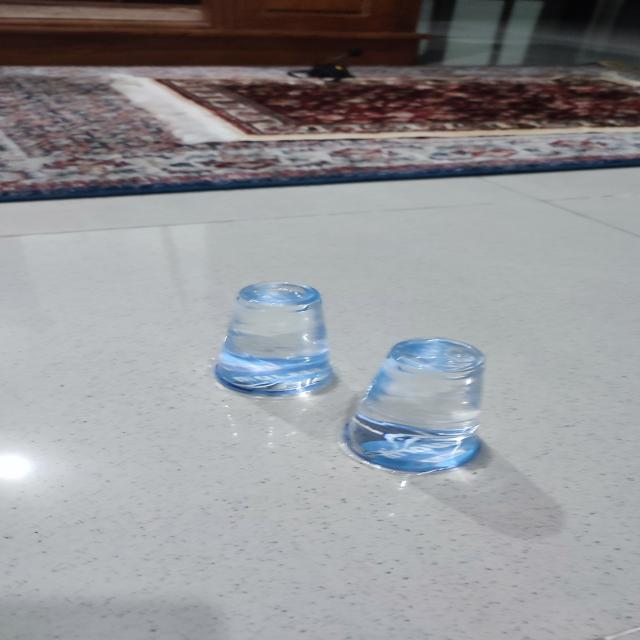air gelas: (340, 332, 497, 478), (193, 274, 350, 403)
